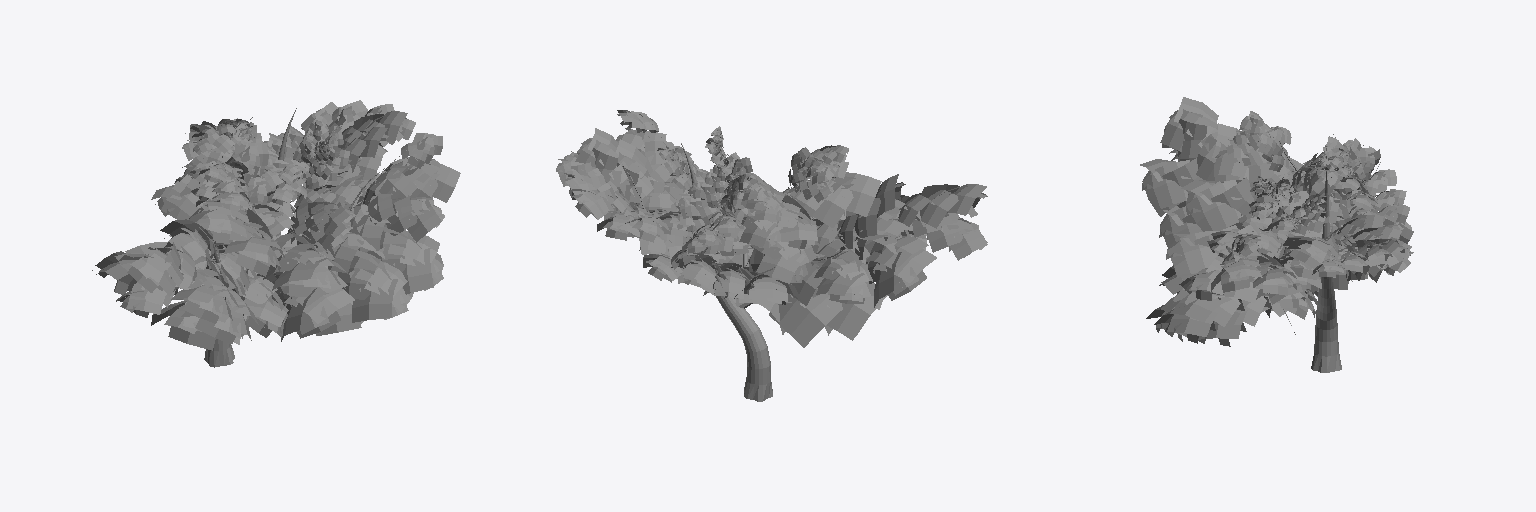
Rendered from tree_obj.obj.
3 views of the same model, side by side, from view 1: azimuth 30°, elevation 25°; view 2: azimuth 150°, elevation 25°; view 3: azimuth 270°, elevation 25° (orthographic).
Size of the model in its own units: 8741 by 5521 by 5915.